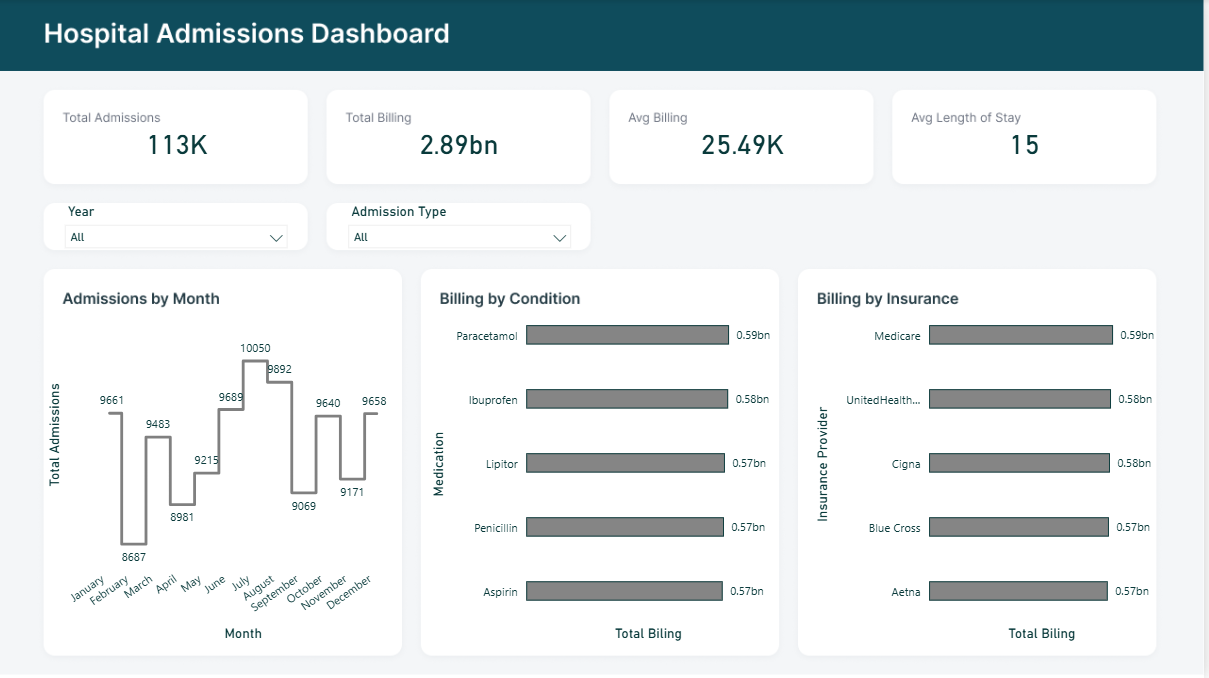

What the dashboard file says about the page in this screenshot:
{"tool":"powerbi","page":{"name":"overview","canvas":[1280,720],"ordinal":0},"visuals":[{"type":"group","id":"g1","title":"Group 1","box":[48.6,115.4,1182.8,83],"z":0},{"type":"cardVisual","fields":{"Data":["_measures.Total Admissions"]},"box":[48.6,115.4,283.5,83],"z":0,"group":"g1"},{"type":"cardVisual","fields":{"Data":["_measures.Avg Length of Stay"]},"box":[947.8,115.4,283.5,83],"z":1000,"group":"g1"},{"type":"slicer","fields":{"Values":["Facts.Date of Admission.Variation.Date Hierarchy.Year"]},"box":[61.2,211.2,256.2,56.2],"z":1000},{"type":"cardVisual","fields":{"Data":["_measures.Total Biling"]},"box":[348.3,115.4,283.5,83],"z":2000,"group":"g1"},{"type":"slicer","fields":{"Values":["Facts.Admission Type"]},"box":[362.5,211.2,256.2,56.2],"z":2000},{"type":"cardVisual","fields":{"Data":["_measures.Avg Billing"]},"box":[648.1,115.4,283.5,83],"z":3000,"group":"g1"},{"type":"clusteredBarChart","fields":{"Category":["Insurance Dim.Insurance Provider"],"Y":["_measures.Total Biling"]},"box":[861.7,305,370,380],"z":4001},{"type":"clusteredBarChart","fields":{"Category":["Medication Dim.Medication"],"Y":["_measures.Total Biling"]},"box":[455,305,370,380],"z":4002},{"type":"lineChart","fields":{"Category":["Facts.Date of Admission.Variation.Date Hierarchy.Month"],"Y":["_measures.Total Admissions"]},"box":[48.3,305,370,380],"z":4003}]}

Visuals, with their boxes in screenshot pixels (x1, y1, x2, y2), scaled from the page's 1280x720 canvas onto the 1209x678 screenshot:
"Group 1" group: [46,109,1163,187]
cardVisual - _measures.Total Admissions: [46,109,314,187]
cardVisual - _measures.Avg Length of Stay: [895,109,1163,187]
slicer - Facts.Date of Admission.Variation.Date Hierarchy.Year: [58,199,300,252]
cardVisual - _measures.Total Biling: [329,109,597,187]
slicer - Facts.Admission Type: [342,199,584,252]
cardVisual - _measures.Avg Billing: [612,109,880,187]
clusteredBarChart - Insurance Dim.Insurance Provider x _measures.Total Biling: [814,287,1163,645]
clusteredBarChart - Medication Dim.Medication x _measures.Total Biling: [430,287,779,645]
lineChart - Facts.Date of Admission.Variation.Date Hierarchy.Month x _measures.Total Admissions: [46,287,395,645]
